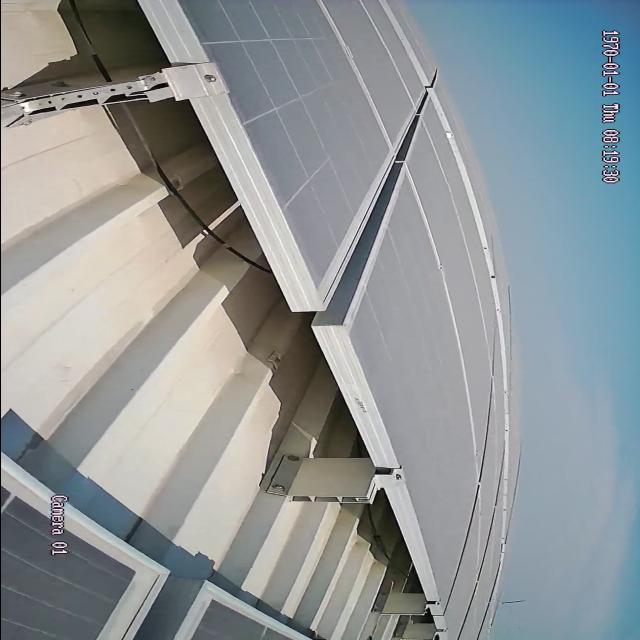interior panel: (322, 95, 432, 333), (102, 574, 210, 640)
outher panel: (0, 0, 446, 640)
